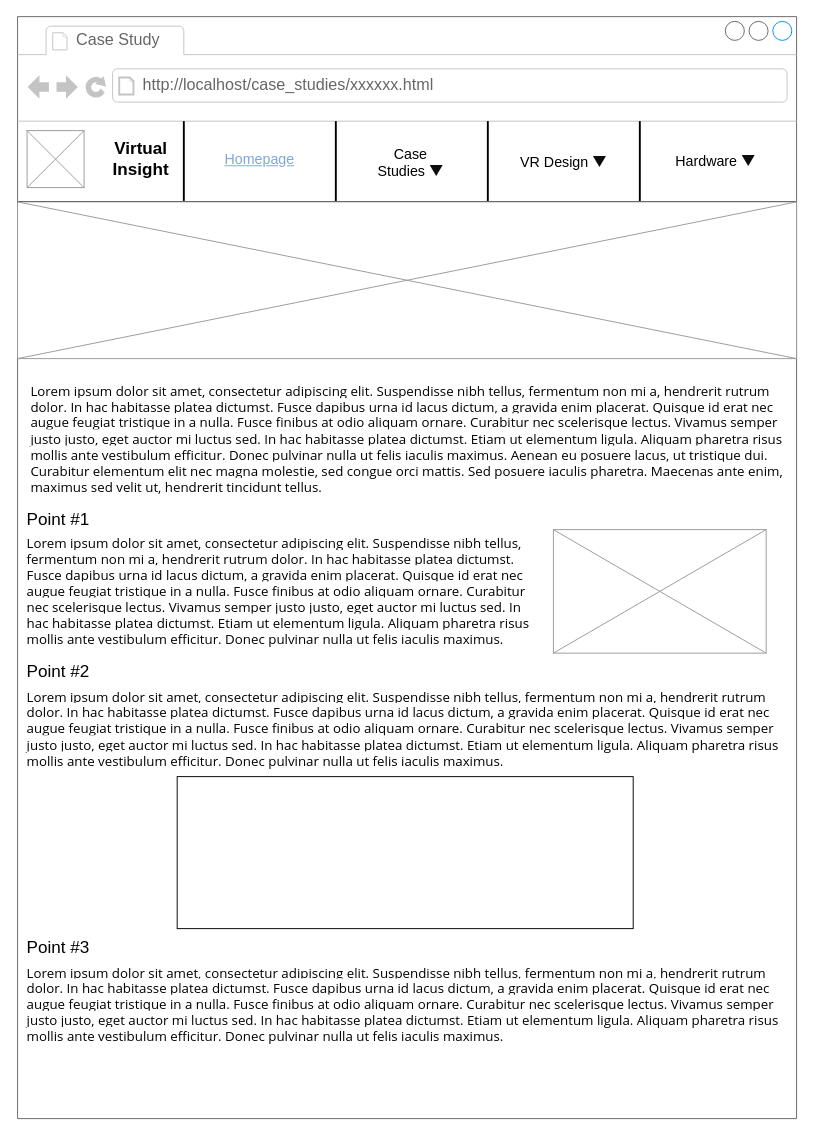
The diagram is 813 pixels wide and 1135 high, and some of its shapes have lost their labels. The shapes that lost their labels are listed below. From the top down, each one's centre as x and y in pixels, then its label:
At point (407, 280): "Case Study: XXXXXX".
At point (404, 852): "Embedded external video No autoplay".
